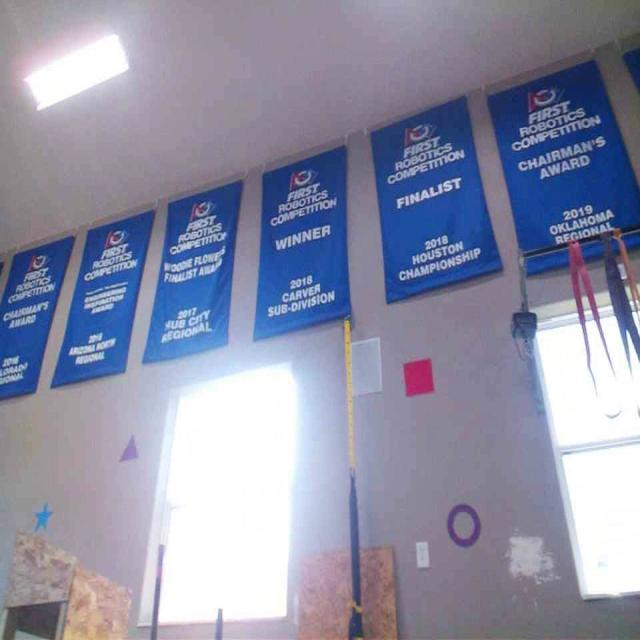ring_purple: (446, 502, 481, 548)
square_red: (400, 354, 434, 396)
star_blue: (33, 502, 53, 532)
triangle_purple: (120, 434, 138, 461)
